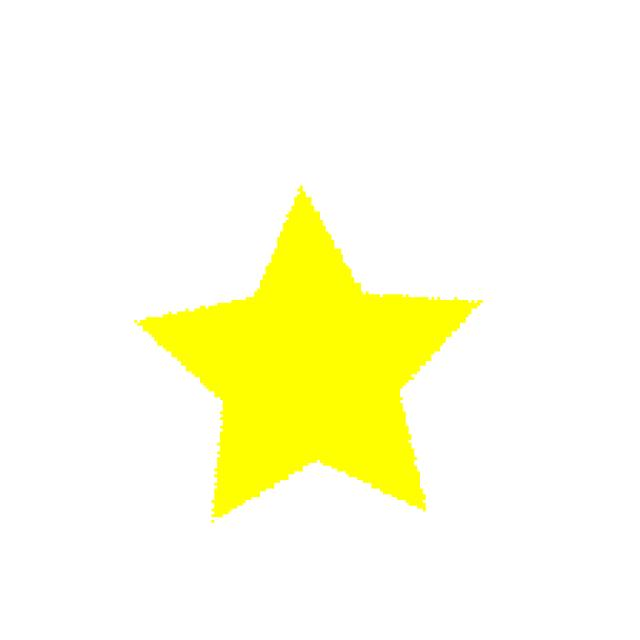Star: (110, 123, 521, 593)
